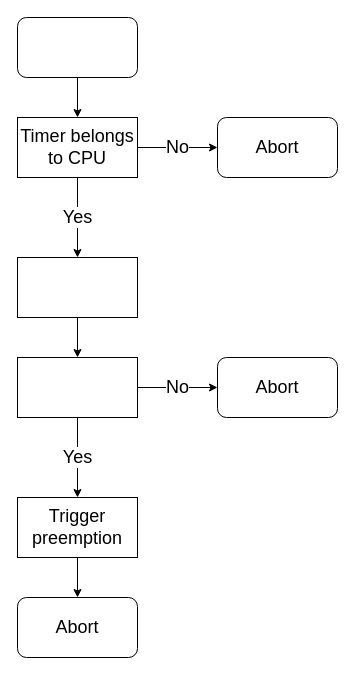
This 355x675 diagram has some shape labels left out. Each missing label, with the centre of its shape:
Increment core-time: the point at 77,287
Local timer interrupt: the point at 77,47
Timer belongs to BSP: the point at 77,387
